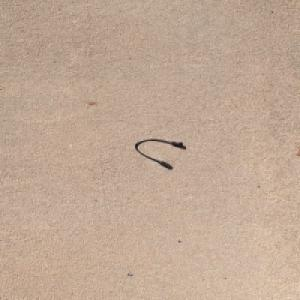Wire: (135, 138, 183, 167)
